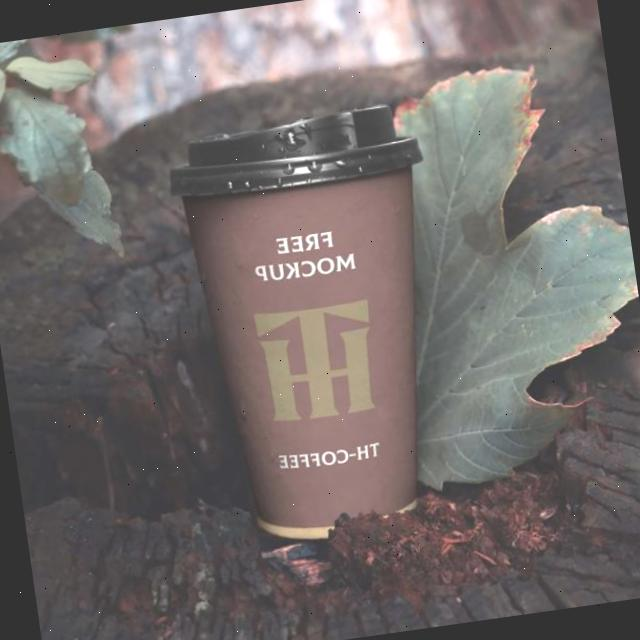trash: (162, 96, 472, 558)
